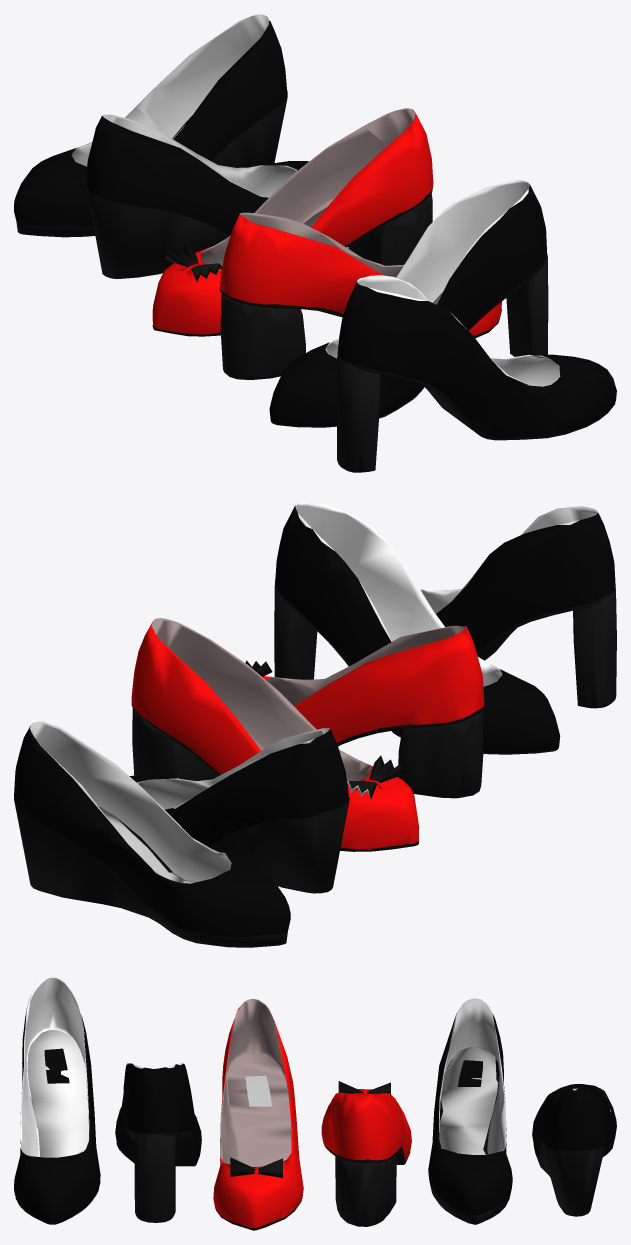
The model's file is shoe1_lowPoly.fbx.
The picture shows the model from 3 angles, top to bottom: view 1: azimuth 30°, elevation 25°; view 2: azimuth 150°, elevation 25°; view 3: azimuth 270°, elevation 25°; orthographic projection. The views are drawn at different scales.
Parts seen in each view (by area): view 1: 1, 3, 2; view 2: 3, 2, 1; view 3: 1, 2, 3.
Boxes of the visible parts, x1=… form: 1: x1=269, y1=180, x2=616, y2=472; 3: x1=14, y1=14, x2=308, y2=278; 2: x1=152, y1=108, x2=501, y2=379; 3: x1=14, y1=721, x2=349, y2=947; 2: x1=131, y1=618, x2=484, y2=851; 1: x1=274, y1=501, x2=616, y2=754; 1: x1=14, y1=976, x2=201, y2=1224; 2: x1=213, y1=999, x2=411, y2=1230; 3: x1=428, y1=998, x2=616, y2=1224.
Size of the model in its own units: 25.85 by 15.41 by 56.72.
